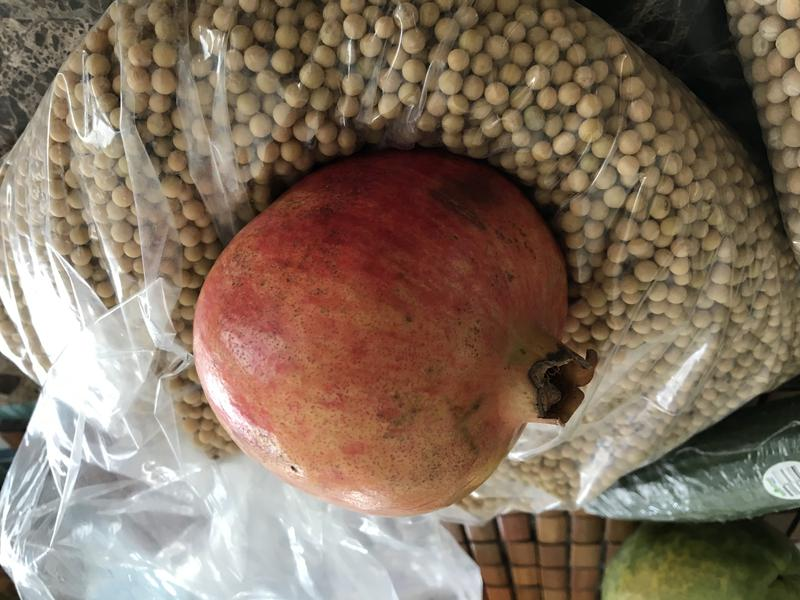pomegranate: (182, 132, 601, 525)
